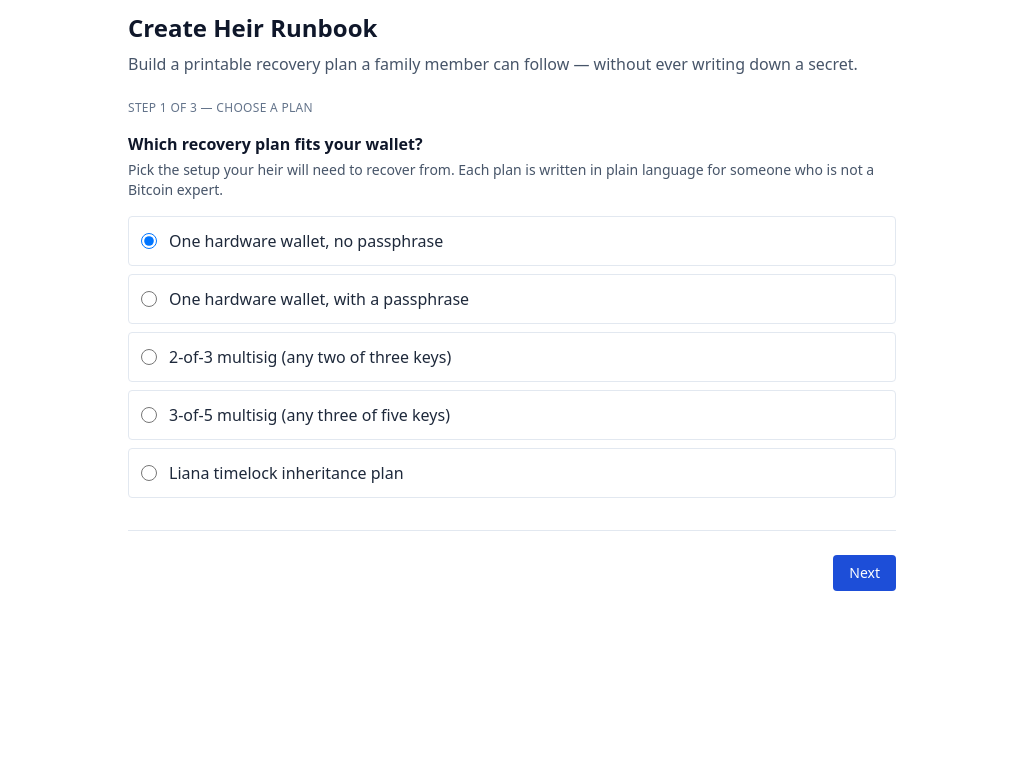
Test: Create Heir Runbook (US-053) › previews a heir 2-of-3 plan with blank fields and exports public-safe PDF by default
Click the radio button labelled "2-of-3 multisig (any two of three keys)": (149,357) [141,349,157,365]
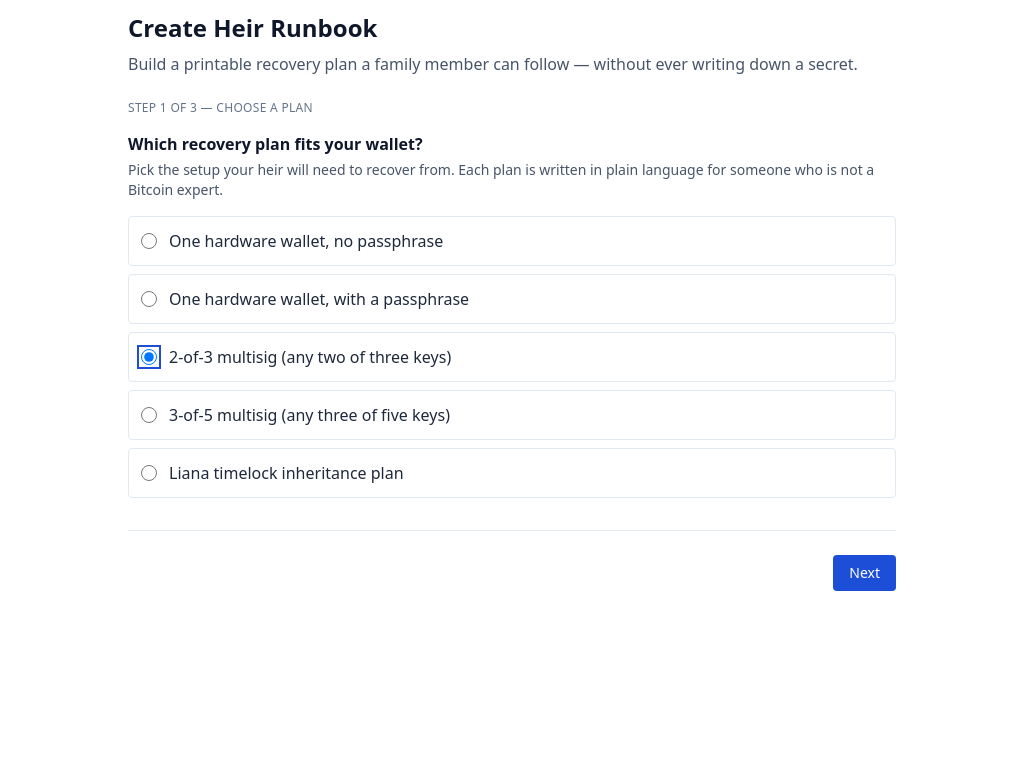
Click the button "Next": (865,573) [833,555,896,591]
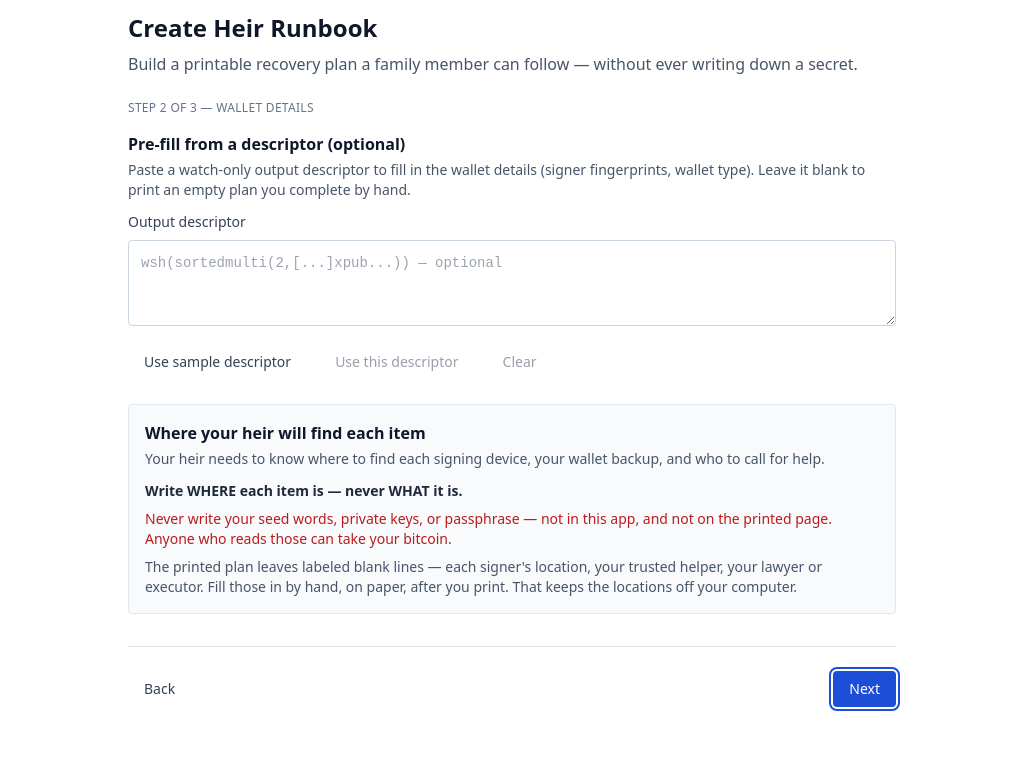
Click the button "Next": (865,689) [833,671,896,707]
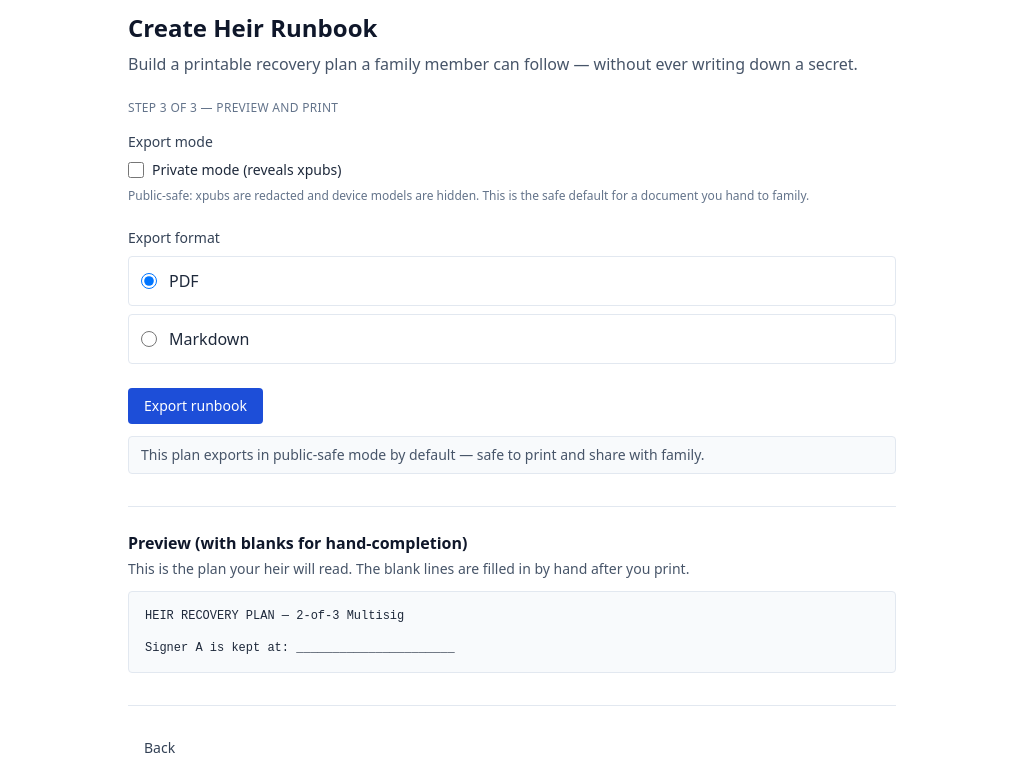
Expected: the text "Signer A is kept at:" is shown, [145,609,455,655]
Click the button "Export runbook": (195,406) [128,388,263,424]
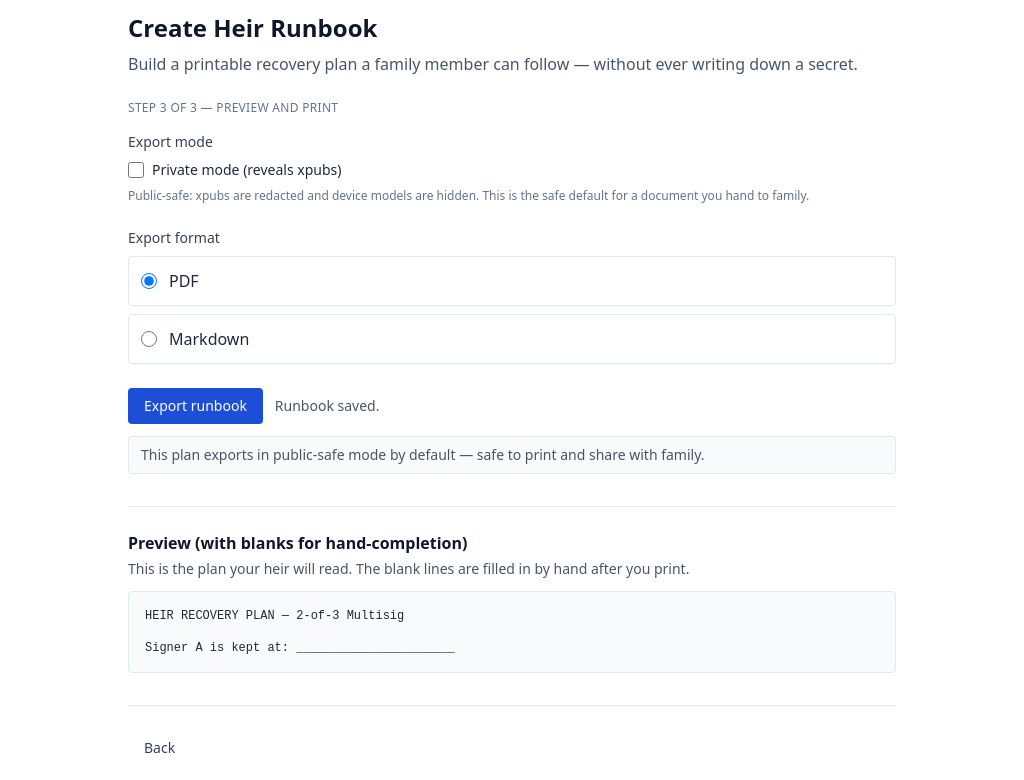
Expected: the text "Runbook saved." is shown, [275,396,380,416]
